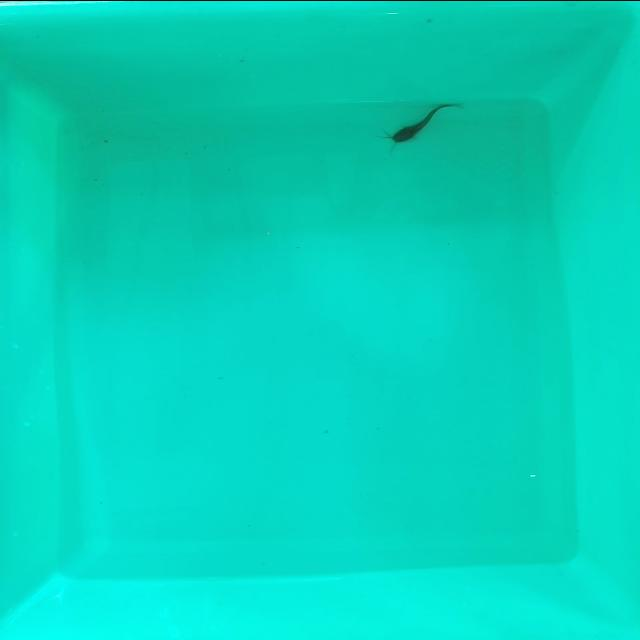lele: (384, 101, 460, 145)
